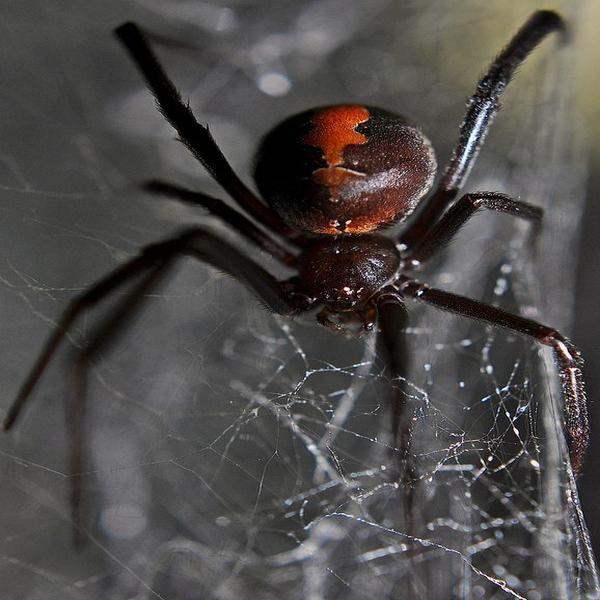Redback Spider: (64, 23, 588, 468)
